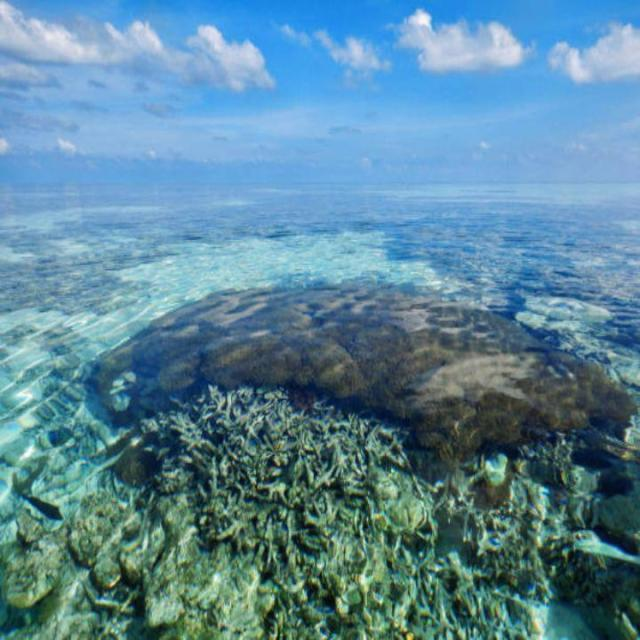Dead Coral: (130, 384, 587, 638)
